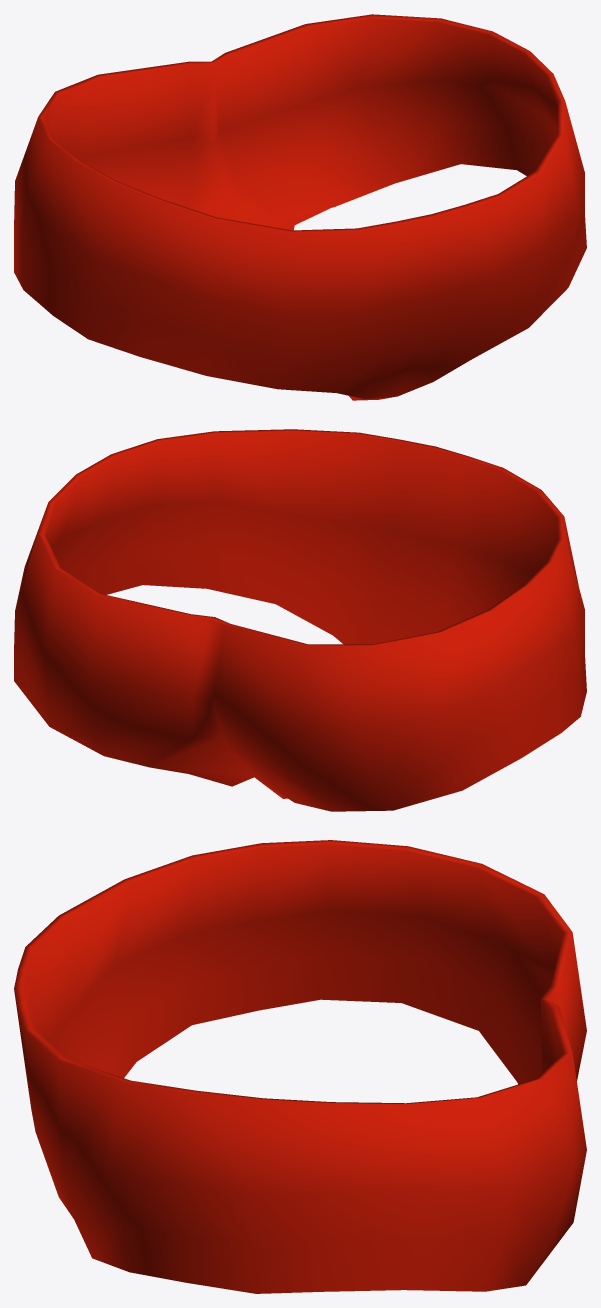
The model's file is CUTightyWhities.fbx.
3 views of the same model, one above another, from view 1: azimuth 30°, elevation 25°; view 2: azimuth 150°, elevation 25°; view 3: azimuth 270°, elevation 25° (orthographic). The views are drawn at different scales.
Visible parts, largest first — view 1: Tightywhities; view 2: Tightywhities; view 3: Tightywhities.
Part boxes in pixels (x1,y1,x2,y2): Tightywhities: (14, 14, 586, 400); Tightywhities: (14, 429, 586, 811); Tightywhities: (14, 840, 586, 1293).
Bounding box in the file's own units: 167 × 74.7 × 137.
